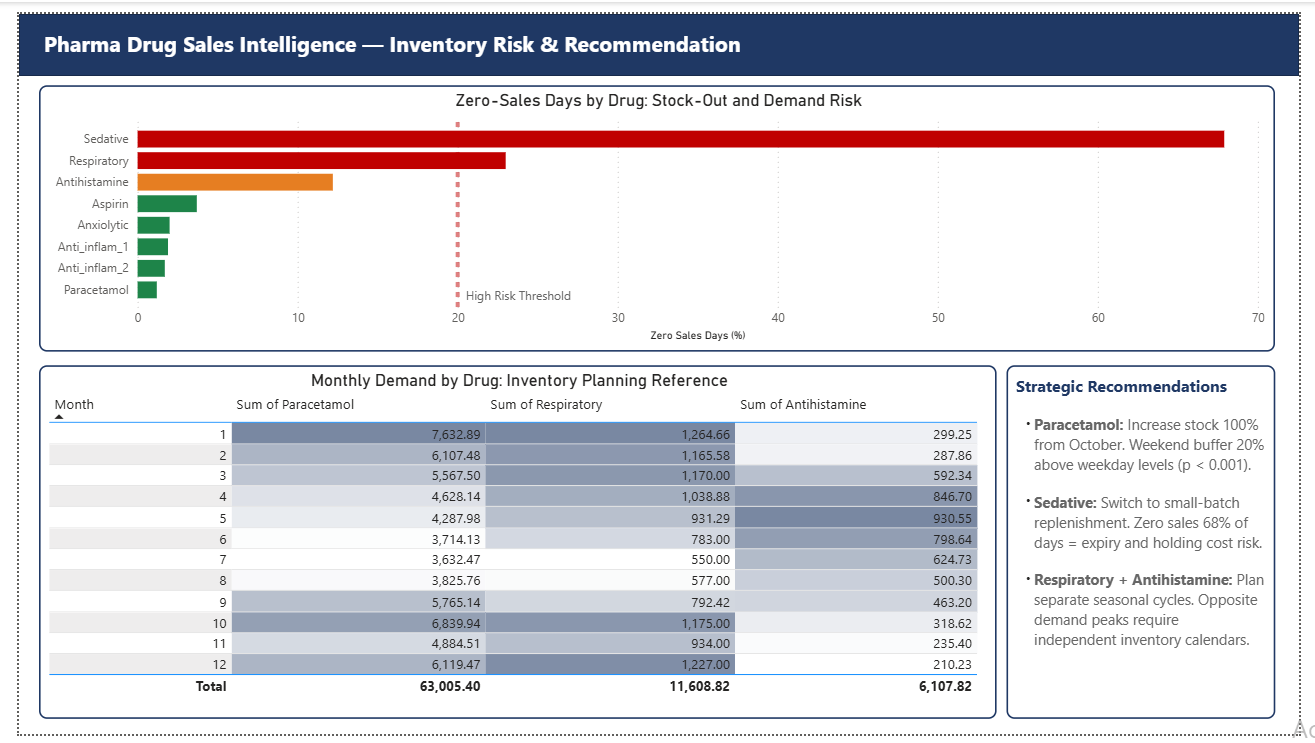

The page's visual inventory and layout, read from the dashboard file:
{"tool":"powerbi","page":{"name":"Inventory Risk & Recommendations","canvas":[1280,720],"ordinal":2},"visuals":[{"type":"shape","box":[0,0,1280,62],"z":0},{"type":"textbox","box":[20,10,1236.2,40],"z":1000},{"type":"clusteredBarChart","title":"Zero-Sales Days by Drug: Stock-Out and Demand Risk","fields":{"Category":["drug_profile.drug_name"],"Y":["Sum(drug_profile.zero_pct)"]},"box":[20,71.2,1236.2,266.2],"z":2000},{"type":"tableEx","title":"Monthly Demand by Drug: Inventory Planning Reference","fields":{"Values":["monthly_sales.Month","Sum(monthly_sales.Paracetamol)","Sum(monthly_sales.Respiratory)","Sum(monthly_sales.Antihistamine)"]},"box":[20,351.2,957.5,353.8],"z":3000},{"type":"textbox","box":[987.5,351.2,268.8,353.8],"z":4000}]}

Visuals, with their boxes in screenshot pixels (x1, y1, x2, y2), scaled from the page's 1280x720 canvas onto the 1315x743 screenshot:
shape: {"x1": 0, "y1": 0, "x2": 1314, "y2": 64}
textbox: {"x1": 21, "y1": 10, "x2": 1291, "y2": 52}
"Zero-Sales Days by Drug: Stock-Out and Demand Risk" clusteredBarChart: {"x1": 21, "y1": 73, "x2": 1291, "y2": 348}
"Monthly Demand by Drug: Inventory Planning Reference" tableEx: {"x1": 21, "y1": 362, "x2": 1004, "y2": 728}
textbox: {"x1": 1015, "y1": 362, "x2": 1291, "y2": 728}
